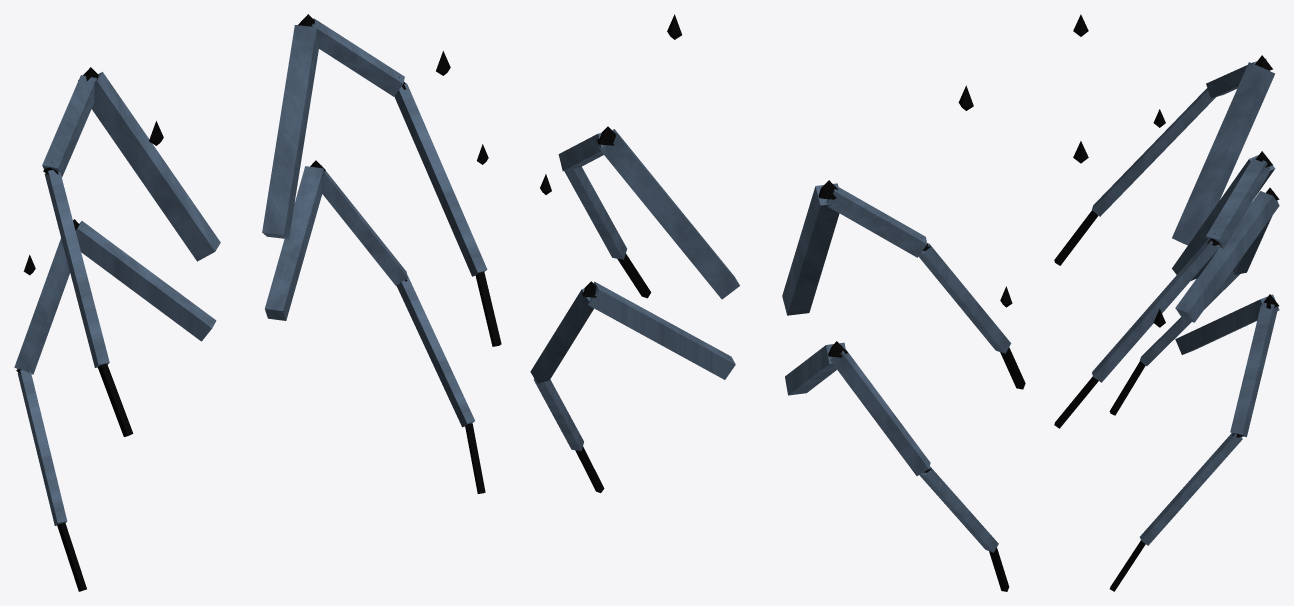
File: rival_mother_limbs.obj
3 views of the same model, side by side, from view 1: azimuth 30°, elevation 25°; view 2: azimuth 150°, elevation 25°; view 3: azimuth 270°, elevation 25° (orthographic). The views are drawn at different scales.
Visible parts, largest first — view 1: rival_mother_limbs; view 2: rival_mother_limbs; view 3: rival_mother_limbs.
Part boxes in pixels (x1,y1,x2,y2): rival_mother_limbs: (14, 14, 501, 591); rival_mother_limbs: (530, 14, 1025, 591); rival_mother_limbs: (1054, 14, 1279, 591).
Bounding box in the file's own units: 1.92 × 1.86 × 0.8944.
